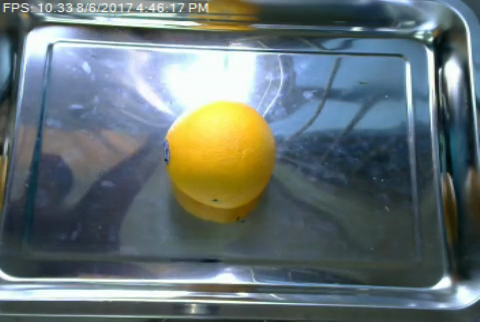Orange: (162, 100, 277, 208)
